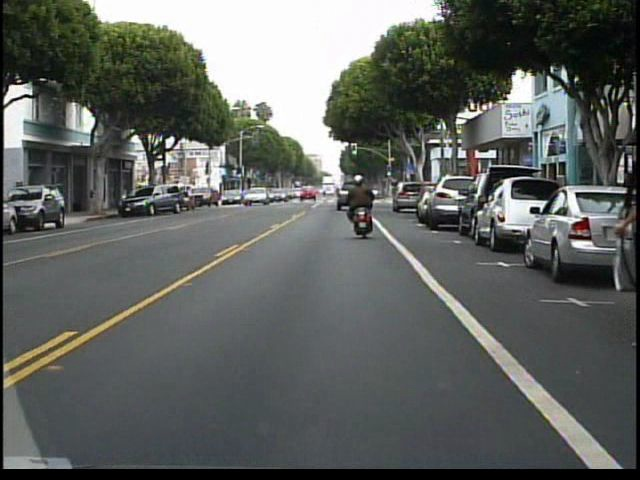person: (339, 169, 377, 236)
